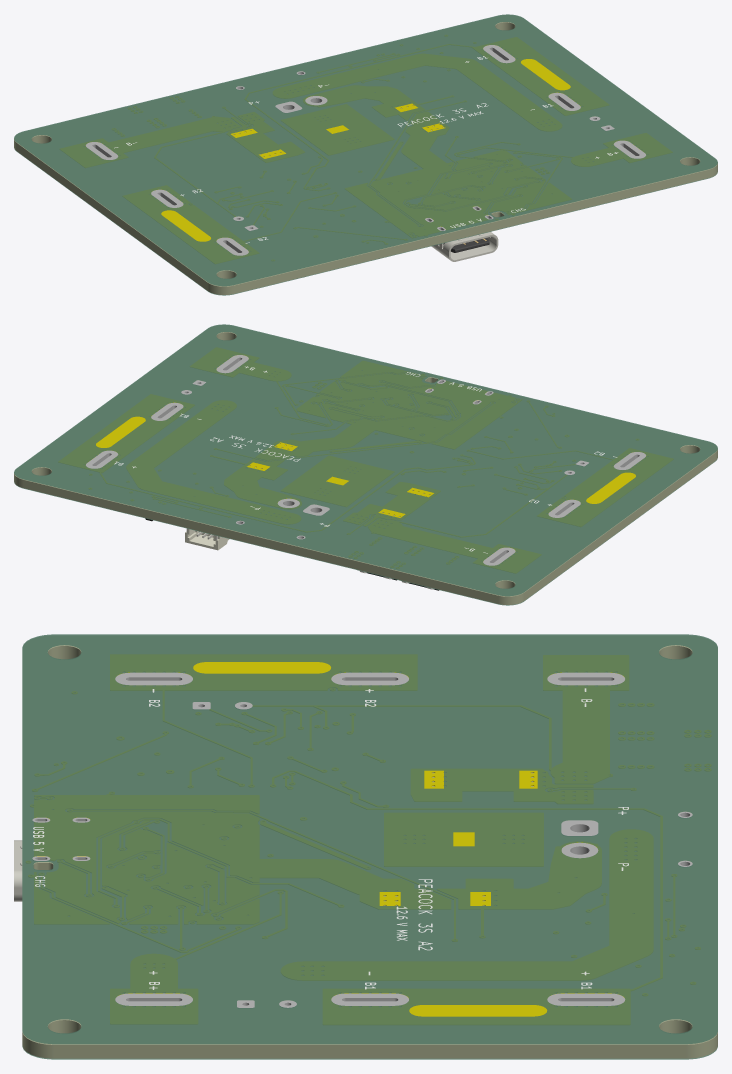
The model's file is PeacockBattery_A2.glb.
3 views of the same model, one above another, from view 1: azimuth 30°, elevation 25°; view 2: azimuth 150°, elevation 25°; view 3: azimuth 270°, elevation 25° (orthographic). The views are drawn at different scales.
Parts seen in each view (by area): view 1: =>[0:1:1:52], =>[0:1:1:54], =>[0:1:1:47], =>[0:1:1:48], =>[0:1:1:32], =>[0:1:1:53], =>[0:1:1:50]; view 2: =>[0:1:1:52], =>[0:1:1:54], =>[0:1:1:47], =>[0:1:1:48], =>[0:1:1:53], =>[0:1:1:42], =>[0:1:1:50]; view 3: =>[0:1:1:52], =>[0:1:1:54], =>[0:1:1:47], =>[0:1:1:48], =>[0:1:1:53], =>[0:1:1:50].
Part boxes in pixels (x1,y1,x2,y2): =>[0:1:1:52]: (14, 14, 717, 286); =>[0:1:1:54]: (14, 15, 717, 294); =>[0:1:1:47]: (60, 35, 672, 263); =>[0:1:1:48]: (86, 45, 645, 255); =>[0:1:1:32]: (431, 231, 498, 261); =>[0:1:1:53]: (14, 149, 717, 295); =>[0:1:1:50]: (114, 56, 618, 243); =>[0:1:1:52]: (14, 324, 717, 596); =>[0:1:1:54]: (14, 325, 717, 604); =>[0:1:1:47]: (59, 348, 672, 572); =>[0:1:1:48]: (86, 355, 645, 565); =>[0:1:1:53]: (14, 459, 717, 605); =>[0:1:1:42]: (185, 528, 229, 550); =>[0:1:1:50]: (114, 366, 617, 553); =>[0:1:1:52]: (22, 634, 717, 1044); =>[0:1:1:54]: (22, 636, 717, 1058); =>[0:1:1:47]: (26, 655, 710, 1024); =>[0:1:1:48]: (32, 672, 692, 1007); =>[0:1:1:53]: (22, 1046, 717, 1059); =>[0:1:1:50]: (33, 688, 628, 989).
Bounding box in the file's own units: 0.092 × 0.00493 × 0.0668.
